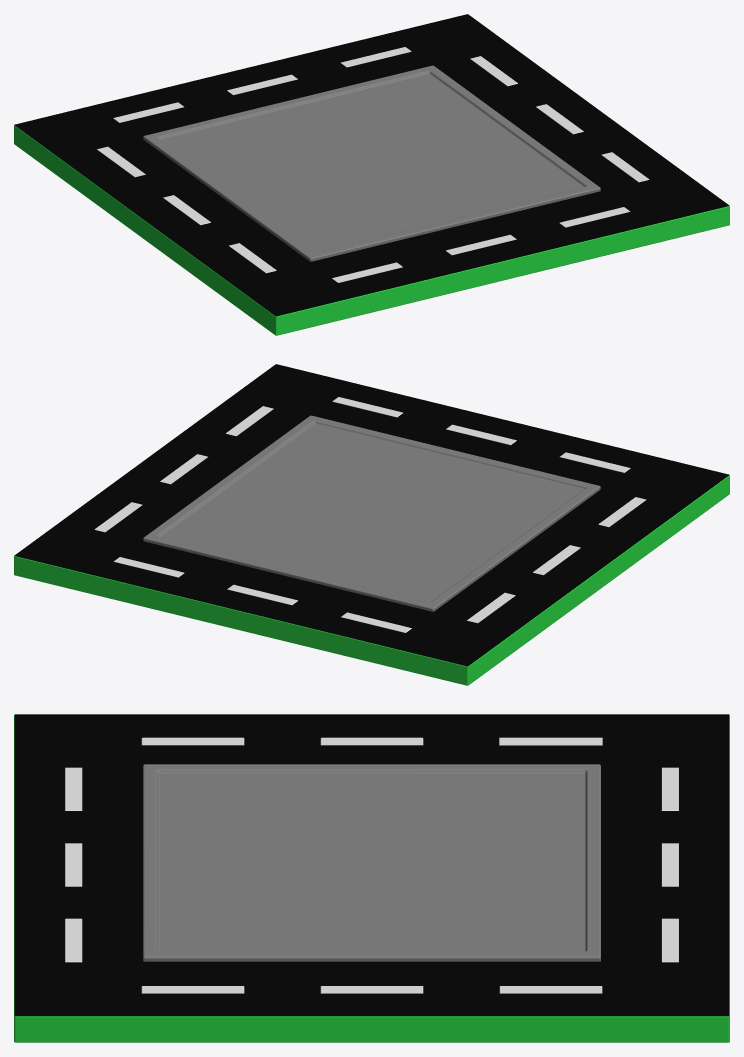
The model's file is Base Road.fbx.
3 renders of one model, top to bottom at view 1: azimuth 30°, elevation 25°; view 2: azimuth 150°, elevation 25°; view 3: azimuth 270°, elevation 25°, orthographic. The views are drawn at different scales.
Parts seen in each view (by area): view 1: Plane.042; view 2: Plane.042; view 3: Plane.042.
Boxes of the visible parts, bbox=[...] form: Plane.042: bbox=[14, 14, 729, 335]; Plane.042: bbox=[14, 364, 729, 685]; Plane.042: bbox=[14, 714, 729, 1042].
Bounding box in the file's own units: 2400 × 117 × 2400.
